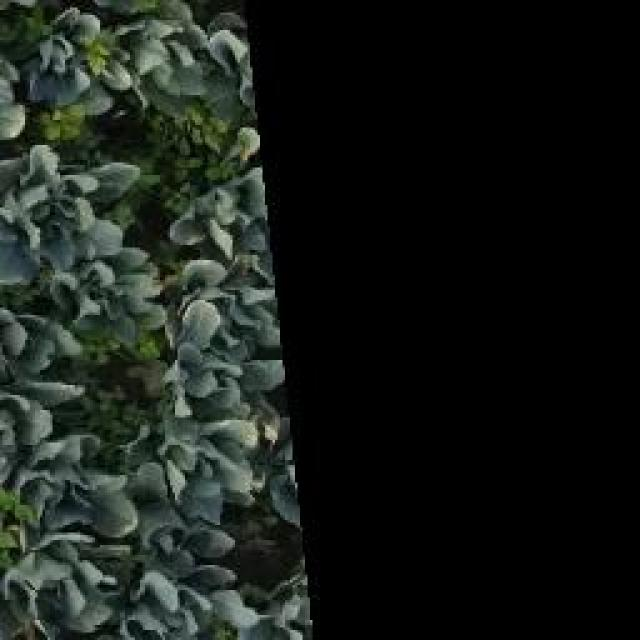cabbage: (0, 520, 110, 638), (143, 408, 262, 508), (46, 218, 153, 323), (141, 5, 247, 103), (4, 134, 98, 240), (15, 455, 130, 539), (0, 312, 71, 442), (190, 250, 279, 352), (26, 1, 112, 102), (115, 546, 205, 640), (160, 315, 247, 397), (178, 174, 262, 248), (211, 580, 305, 640)
